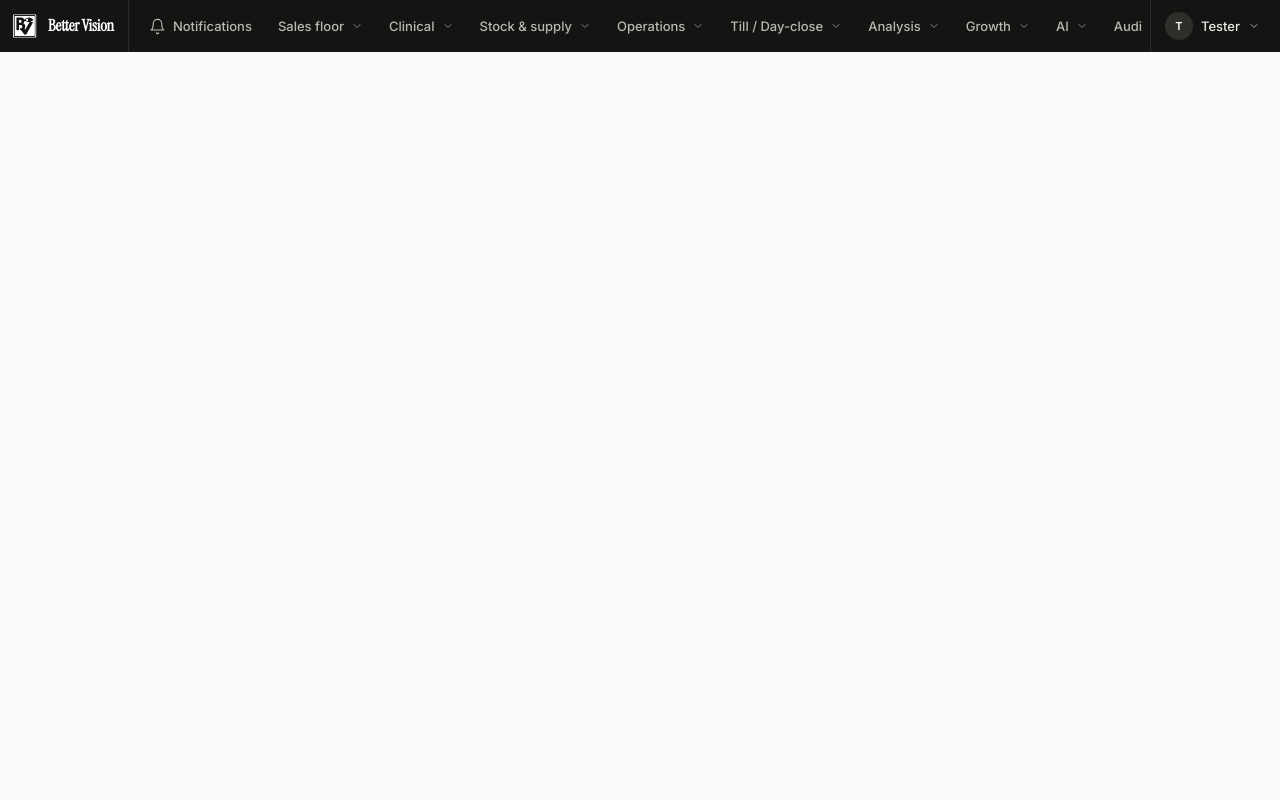
Test: TopNav section headings › SUPERADMIN sees both headings, and they are not menuitems
This screenshot has width=1280, height=800.
What coordinates should you click on to do the following:
click the button "Stock & supply"
I would click on:
 (535, 26)
Its box is [468,8,603,44].
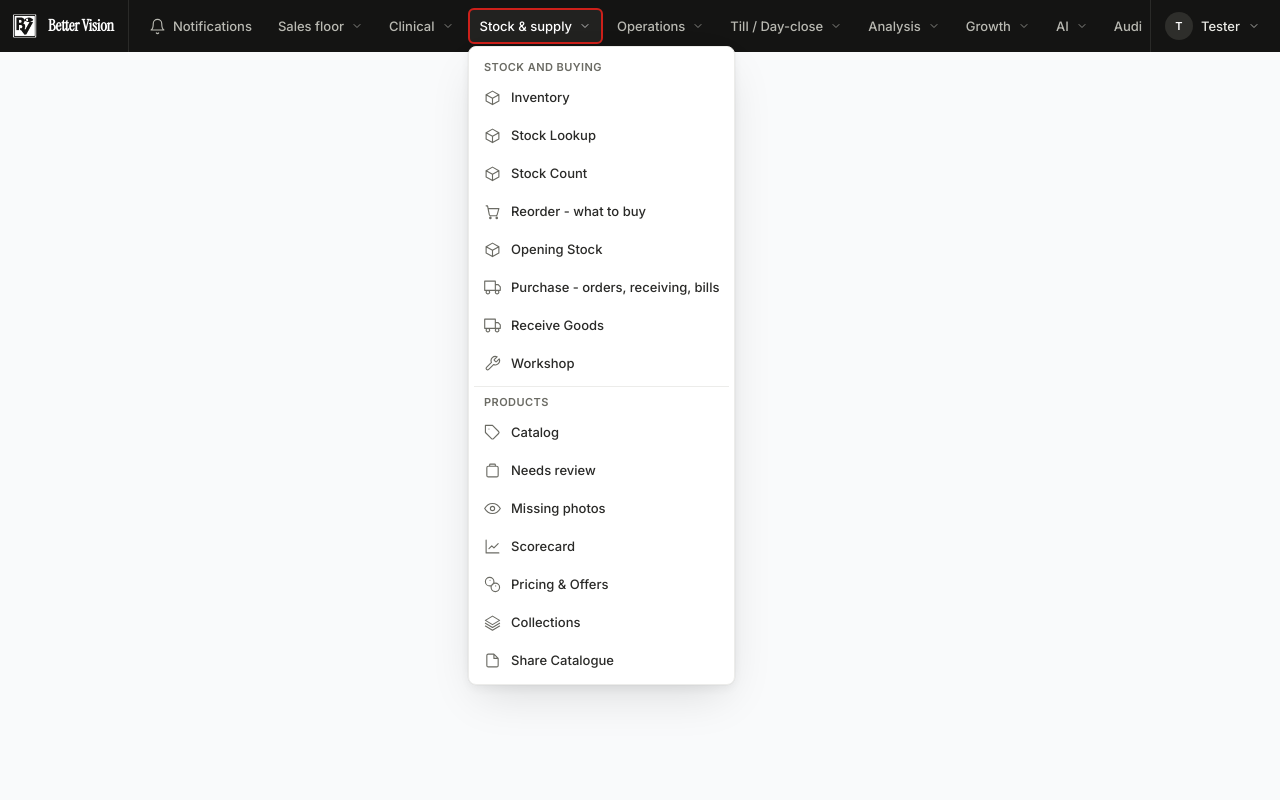
Result: the number of menu items is 15
